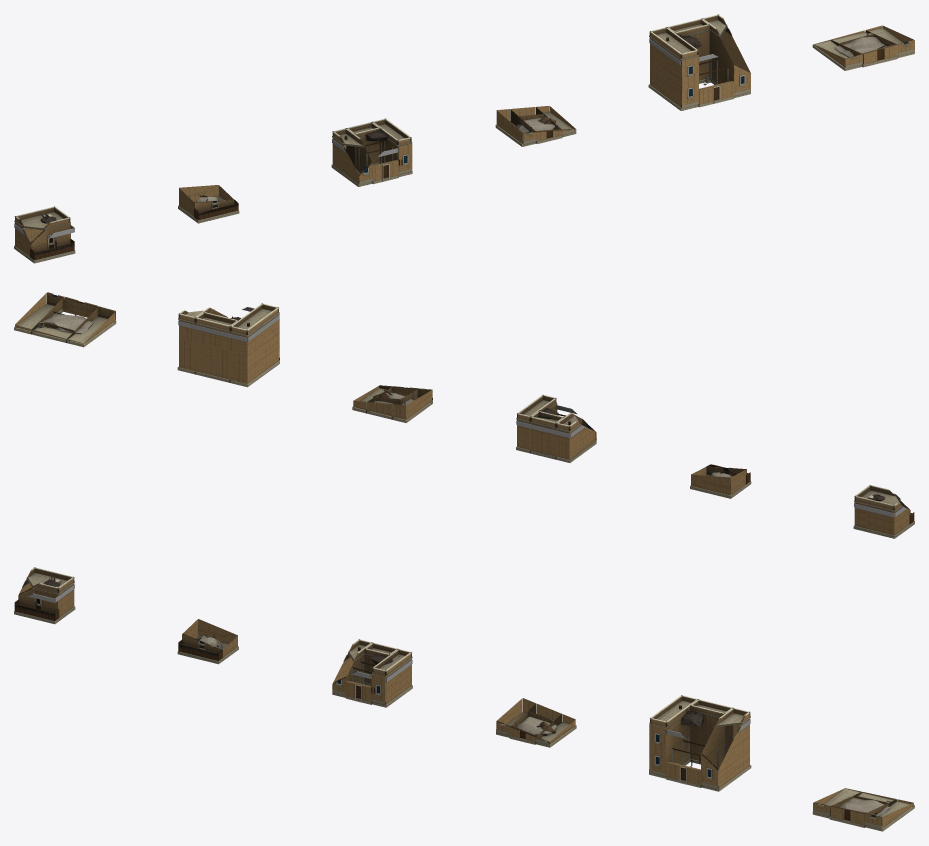
File: bronze-israelite-houses-damage.glb
3 renders of one model, top to bottom at view 1: azimuth 30°, elevation 25°; view 2: azimuth 150°, elevation 25°; view 3: azimuth 330°, elevation 25°, orthographic.
Visible parts, largest first — view 1: LOD0.004, LOD0.002, LOD0.005, LOD0, LOD0.003, LOD0.001; view 2: LOD0.004, LOD0.002, LOD0.005, LOD0, LOD0.003, LOD0.001; view 3: LOD0.004, LOD0.002, LOD0.005, LOD0, LOD0.003, LOD0.001.
Part boxes in pixels (left/top/right/bottom): LOD0.004: left=648, top=14, right=750, bottom=110; LOD0.002: left=331, top=118, right=412, bottom=186; LOD0.005: left=812, top=25, right=914, bottom=70; LOD0: left=14, top=206, right=75, bottom=263; LOD0.003: left=495, top=106, right=576, bottom=146; LOD0.001: left=178, top=185, right=239, bottom=223; LOD0.004: left=177, top=303, right=279, bottom=387; LOD0.002: left=516, top=395, right=596, bottom=462; LOD0.005: left=14, top=292, right=116, bottom=347; LOD0: left=853, top=485, right=914, bottom=538; LOD0.003: left=352, top=385, right=432, bottom=423; LOD0.001: left=690, top=464, right=751, bottom=498; LOD0.004: left=649, top=695, right=751, bottom=791; LOD0.002: left=332, top=639, right=412, bottom=707; LOD0.005: left=812, top=788, right=914, bottom=831; LOD0: left=14, top=567, right=75, bottom=624; LOD0.003: left=496, top=698, right=576, bottom=747; LOD0.001: left=177, top=619, right=238, bottom=664.
Size of what is drawn, in the model's own units: 16.02 by 0.9907 by 1.05.
Materials: 2 (2 with a texture image).
